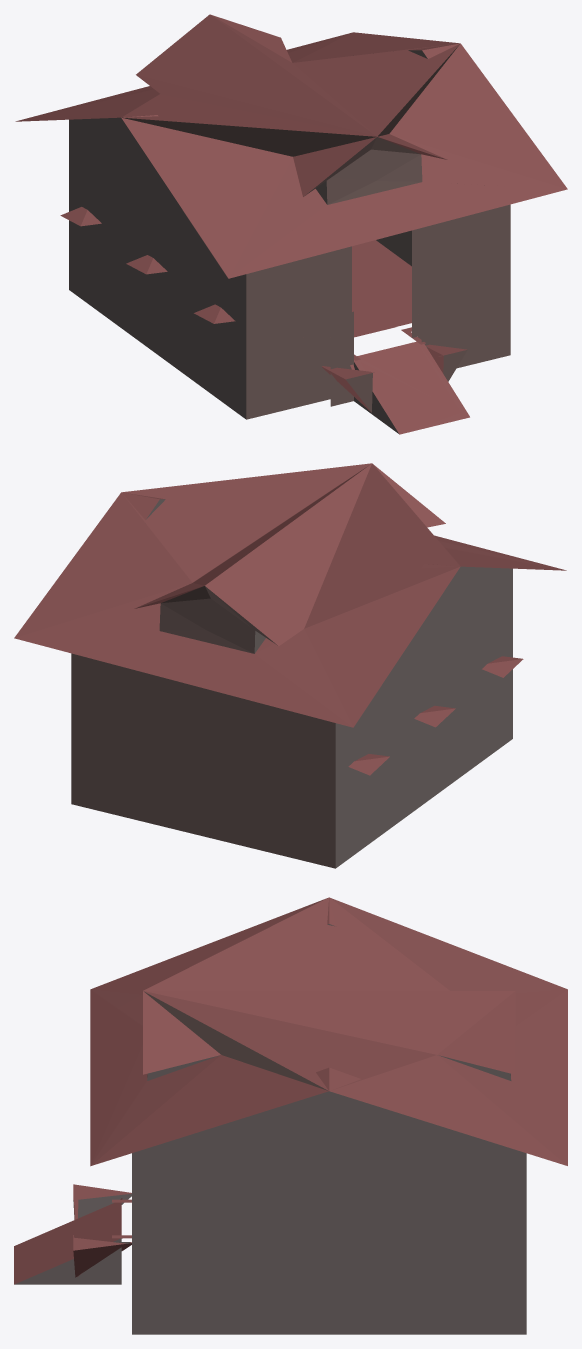
File: rural-house.far-facades-v2.lod2.glb
3 views of the same model, one above another, from view 1: azimuth 30°, elevation 25°; view 2: azimuth 150°, elevation 25°; view 3: azimuth 270°, elevation 25° (orthographic). The views are drawn at different scales.
Parts seen in each view (by area): view 1: rural-house; view 2: rural-house; view 3: rural-house.
Part boxes in pixels (<box>): rural-house: <box>15,14,567,434</box>; rural-house: <box>14,463,566,868</box>; rural-house: <box>14,897,567,1334</box>.
Size of the model in its own units: 6.9 by 4.79 by 8.76.
